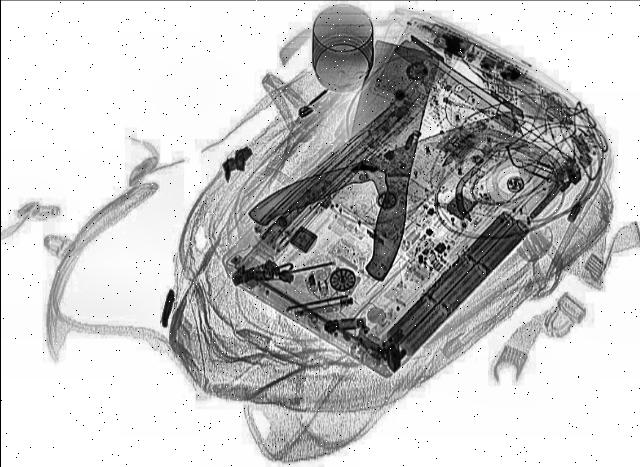Knife: (242, 110, 550, 248), (318, 39, 444, 283)
